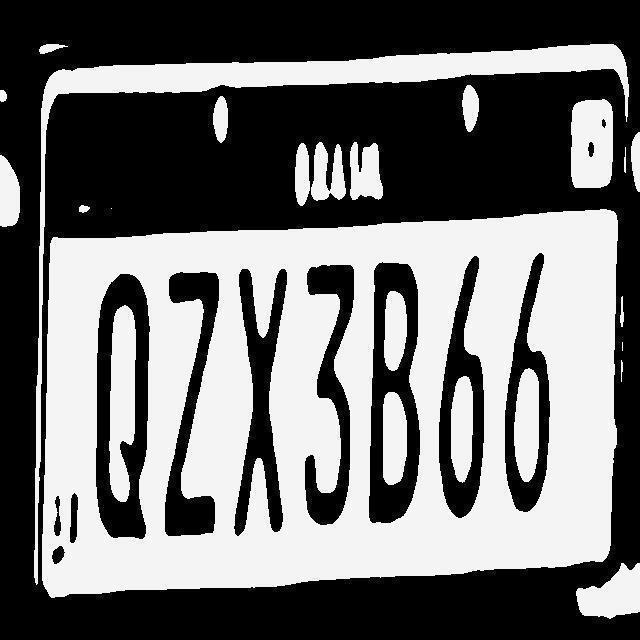3: (302, 262, 362, 534)
6: (432, 246, 496, 528), (504, 247, 554, 523)
b: (365, 258, 423, 536)
q: (84, 266, 156, 548)
x: (232, 266, 297, 545)
z: (161, 266, 231, 550)
